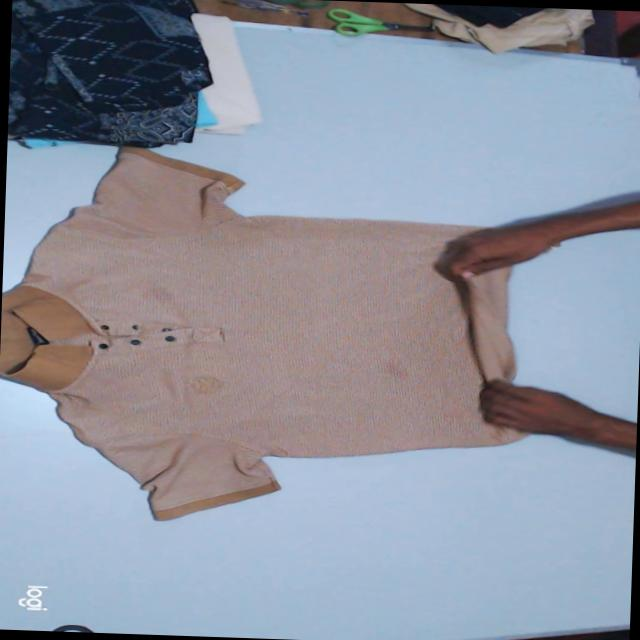new-garment: (0, 150, 525, 519)
